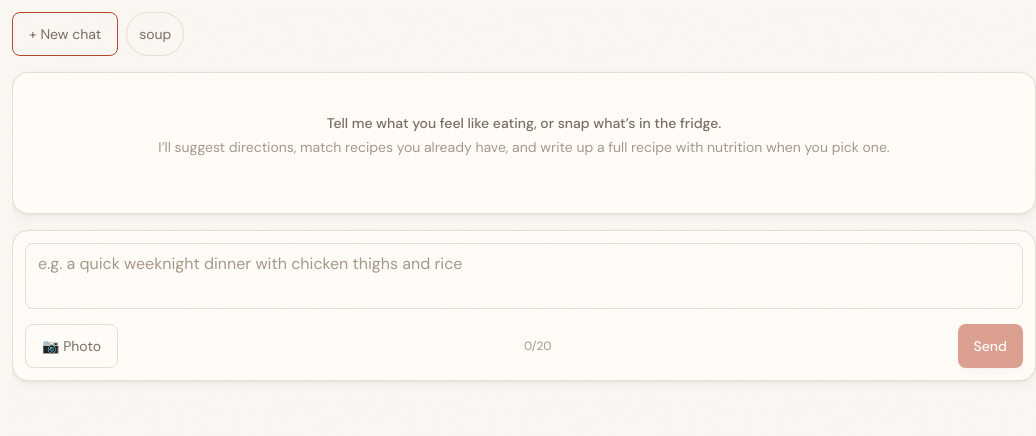
Scenario: RecipeGenerator › does not clobber the chat you switched to while a send was in flight
The width and height of the screenshot is (1036, 436).
In the text box named "Message": (524, 276) [25,243,1023,309], type "chicken"
Then press Enter
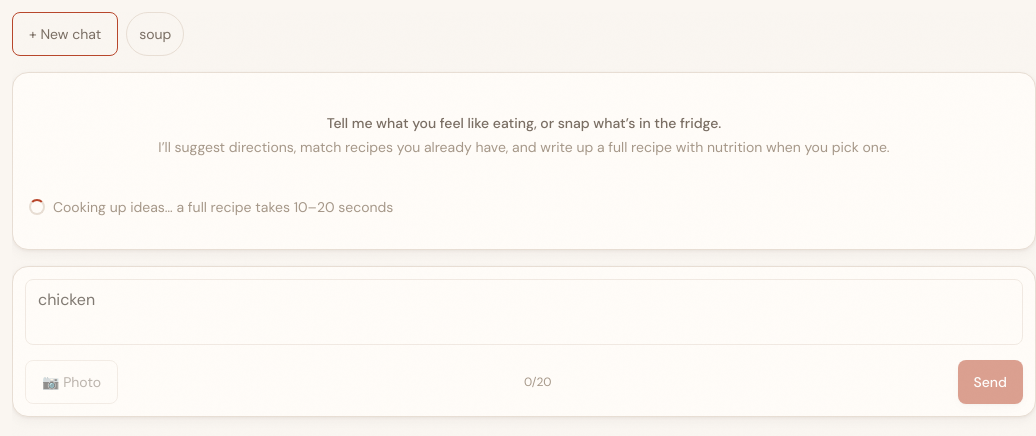
Note: While waiting, open the other draft
Click the button "soup": (155, 34) [126,12,184,56]
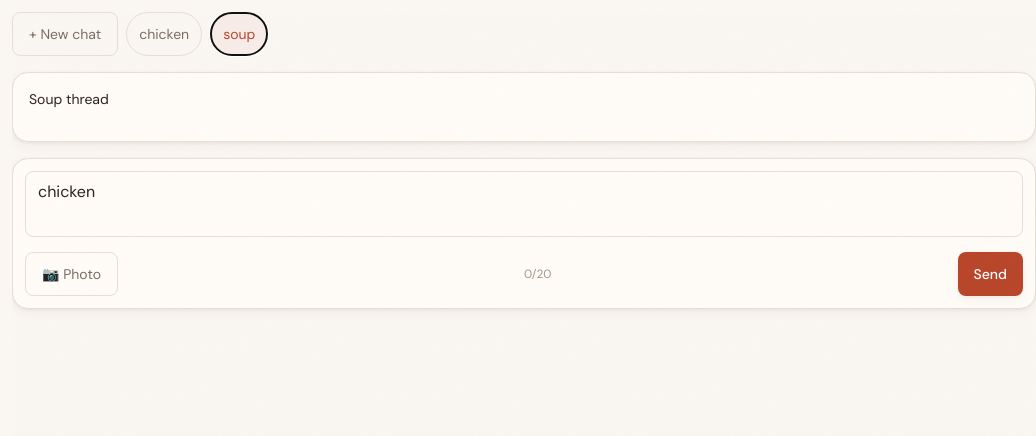
expect the button "chicken" is shown: met, box [126,12,202,56]
expect the text "Soup thread" is shown: met, box [29,90,109,108]
